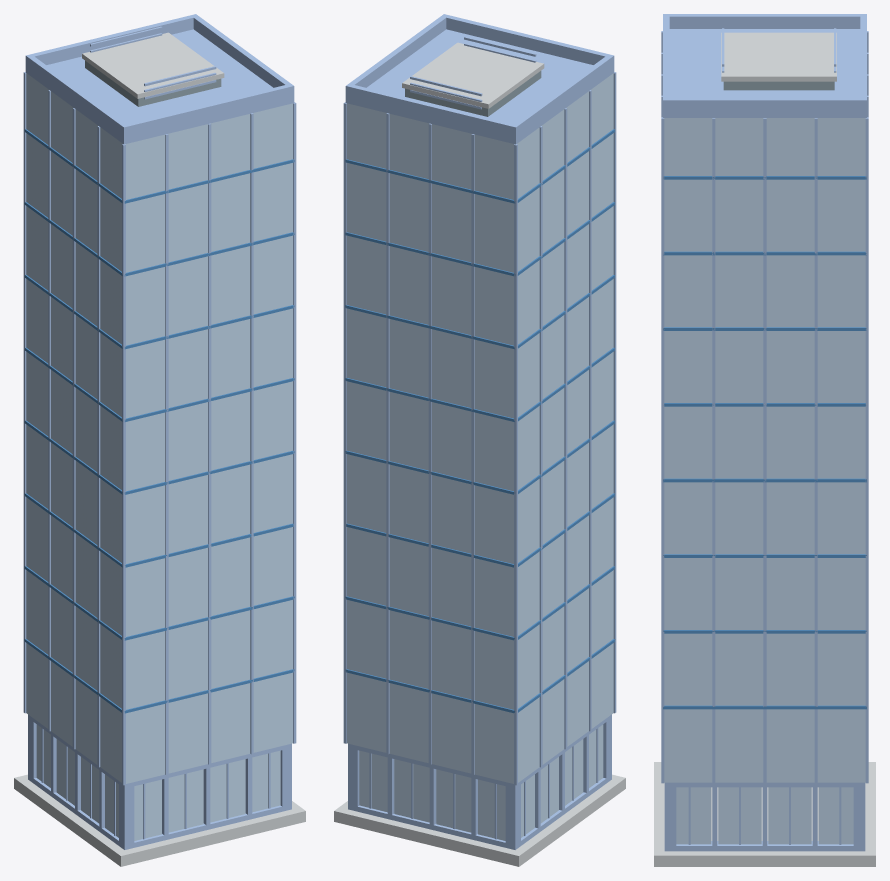
File: cheung-kong-center.glb
The picture shows the model from 3 angles, left to right: view 1: azimuth 30°, elevation 25°; view 2: azimuth 150°, elevation 25°; view 3: azimuth 270°, elevation 25°; orthographic projection. The views are drawn at different scales.
Parts seen in each view (by area): view 1: CKC continuous glass shaft, CKC flat roof, CKC plaza plinth, CKC recessed roof services plant roof, CKC low roof screen parapet.002, CKC vertical curtain mullion.012, CKC vertical curtain mullion.014, CKC vertical curtain mullion.009, CKC vertical curtain mullion.016, CKC vertical curtain mullion.005, CKC vertical curtain mullion.007, CKC vertical curtain mullion.018 (+30 smaller); view 2: CKC continuous glass shaft, CKC flat roof, CKC plaza plinth, CKC recessed roof services plant roof, CKC low roof screen parapet, CKC vertical curtain mullion.005, CKC vertical curtain mullion.006, CKC vertical curtain mullion.004, CKC vertical curtain mullion.002, CKC vertical curtain mullion.003, CKC low roof screen parapet.002, CKC vertical curtain mullion.008 (+28 smaller); view 3: CKC continuous glass shaft, CKC flat roof, CKC plaza plinth, CKC recessed roof services plant roof, CKC low roof screen parapet.003, CKC low roof screen parapet.001, CKC vertical curtain mullion.015, CKC vertical curtain mullion.013, CKC vertical curtain mullion.017, CKC lobby xp inset glazing 0-1, CKC lobby xp inset glazing 0-2, CKC vertical curtain mullion.019 (+20 smaller).
Boxes of the visible parts, x1,y1,x2,y2 form: CKC continuous glass shaft: (26,73,292,783); CKC flat roof: (25,29,294,144); CKC plaza plinth: (14,774,305,866); CKC recessed roof services plant roof: (82,32,224,98); CKC low roof screen parapet.002: (120,83,294,138); CKC vertical curtain mullion.012: (165,134,168,774); CKC vertical curtain mullion.014: (208,123,211,764); CKC vertical curtain mullion.009: (122,144,125,785); CKC vertical curtain mullion.016: (250,113,253,754); CKC vertical curtain mullion.005: (72,108,75,749); CKC vertical curtain mullion.007: (97,126,100,767); CKC vertical curtain mullion.018: (293,102,296,743); CKC continuous glass shaft: (347,73,613,783); CKC flat roof: (345,29,614,144); CKC plaza plinth: (334,774,625,866); CKC recessed roof services plant roof: (402,42,544,108); CKC low roof screen parapet: (345,83,519,138); CKC vertical curtain mullion.005: (564,108,567,749); CKC vertical curtain mullion.006: (386,113,389,754); CKC vertical curtain mullion.004: (428,123,431,764); CKC vertical curtain mullion.002: (471,134,474,774); CKC vertical curtain mullion.003: (539,126,542,767); CKC low roof screen parapet.002: (441,14,614,69); CKC vertical curtain mullion.008: (343,102,346,743); CKC continuous glass shaft: (664,118,865,782); CKC flat roof: (663,29,866,117); CKC plaza plinth: (654,762,875,866); CKC recessed roof services plant roof: (721,32,836,81); CKC low roof screen parapet.003: (669,97,860,112); CKC low roof screen parapet.001: (669,14,860,28); CKC vertical curtain mullion.015: (763,118,766,783); CKC vertical curtain mullion.013: (814,118,817,783); CKC vertical curtain mullion.017: (712,118,715,783); CKC lobby xp inset glazing 0-1: (718,787,761,844); CKC lobby xp inset glazing 0-2: (768,787,811,844); CKC vertical curtain mullion.019: (661,118,664,782).
Size of the model in its own units: 2.5 by 9.61 by 2.5.
